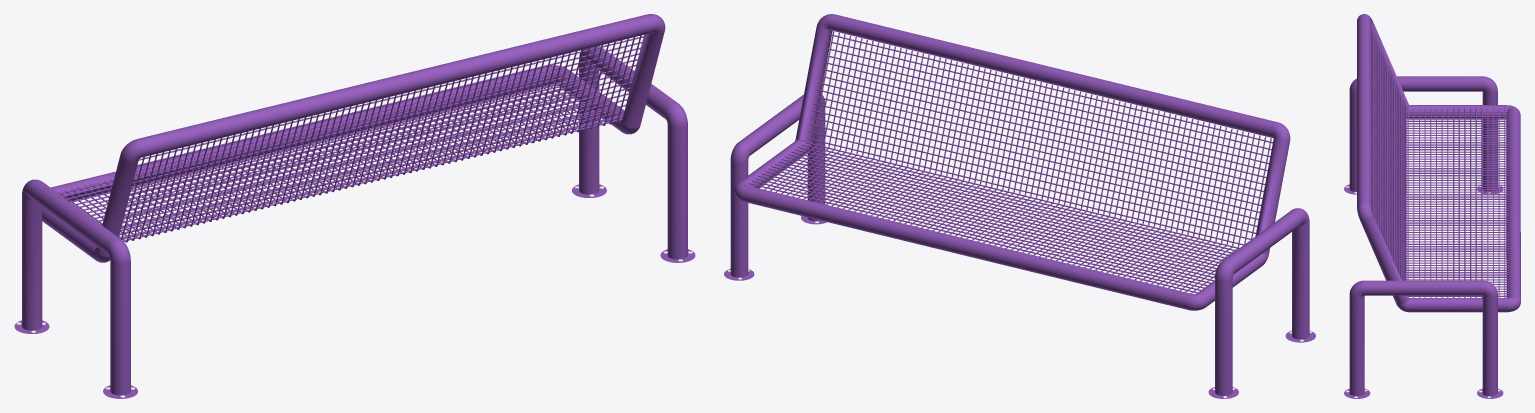
File: SitzbankBank.fbx
The picture shows the model from 3 angles, left to right: view 1: azimuth 30°, elevation 25°; view 2: azimuth 150°, elevation 25°; view 3: azimuth 270°, elevation 25°; orthographic projection. The views are drawn at different scales.
Visible parts, largest first — view 1: Cylinder.023, Cylinder.024, Cylinder.026, Cylinder.025, Cylinder.021, Cylinder.020; view 2: Cylinder.024, Cylinder.023, Cylinder.025, Cylinder.026, Cylinder.021, Cylinder.020; view 3: Cylinder.024, Cylinder.023, Cylinder.025, Cylinder.026, Cylinder.020, Cylinder.021, Cylinder.028.
Part boxes in pixels (left/top/right/bottom): Cylinder.023: left=42, top=14, right=665, bottom=262; Cylinder.024: left=58, top=35, right=641, bottom=242; Cylinder.026: left=119, top=36, right=643, bottom=239; Cylinder.025: left=59, top=71, right=622, bottom=241; Cylinder.021: left=22, top=179, right=130, bottom=395; Cylinder.020: left=579, top=45, right=687, bottom=259; Cylinder.024: left=753, top=31, right=1271, bottom=293; Cylinder.023: left=734, top=14, right=1290, bottom=310; Cylinder.025: left=748, top=142, right=1239, bottom=293; Cylinder.026: left=807, top=33, right=1272, bottom=245; Cylinder.021: left=1215, top=208, right=1309, bottom=395; Cylinder.020: left=730, top=94, right=825, bottom=277; Cylinder.024: left=1371, top=34, right=1508, bottom=296; Cylinder.023: left=1357, top=14, right=1520, bottom=312; Cylinder.025: left=1407, top=108, right=1505, bottom=297; Cylinder.026: left=1371, top=29, right=1406, bottom=280; Cylinder.020: left=1349, top=280, right=1497, bottom=396; Cylinder.021: left=1349, top=76, right=1497, bottom=191; Cylinder.028: left=1344, top=388, right=1503, bottom=398.
Bounding box in the file's own units: 579 × 229 × 201.
